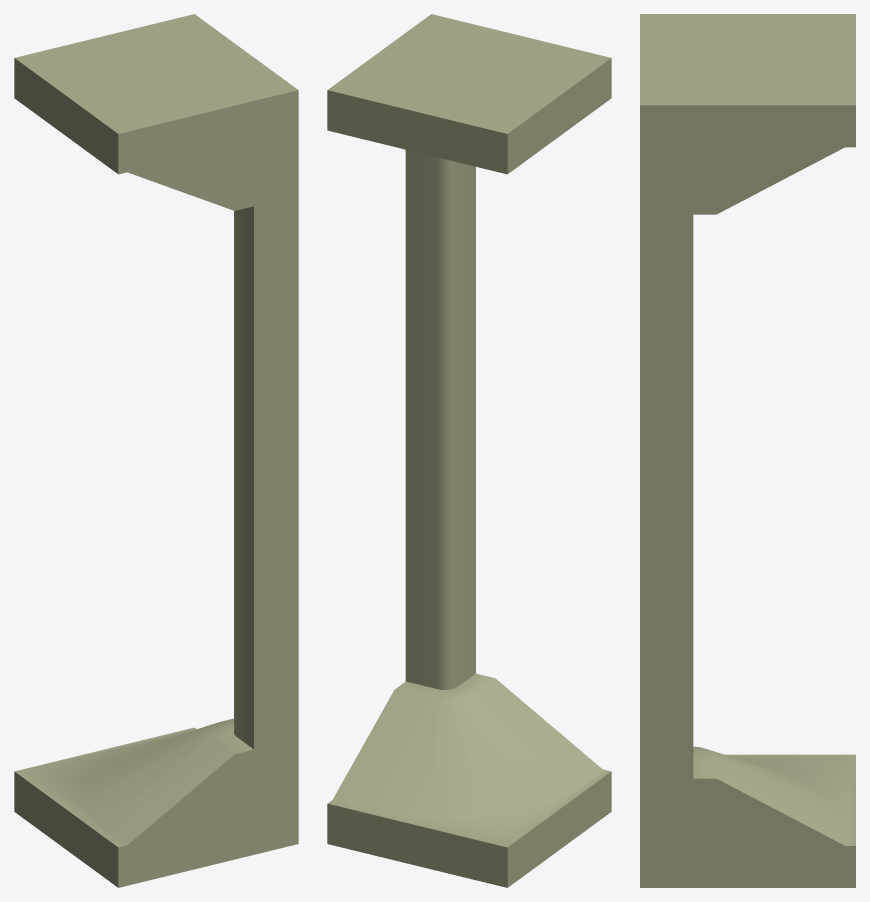
File: zhuanjiao1.FBX
3 renders of one model, left to right at view 1: azimuth 30°, elevation 25°; view 2: azimuth 150°, elevation 25°; view 3: azimuth 270°, elevation 25°, orthographic. The views are drawn at different scales.
Visible parts, largest first — view 1: zhuanjiao_low; view 2: zhuanjiao_low; view 3: zhuanjiao_low.
Part boxes in pixels (x1=…): zhuanjiao_low: x1=14, y1=14, x2=298, y2=887; zhuanjiao_low: x1=327, y1=14, x2=611, y2=887; zhuanjiao_low: x1=640, y1=14, x2=855, y2=887.
Bounding box in the file's own units: 99.99 × 400 × 99.99.
